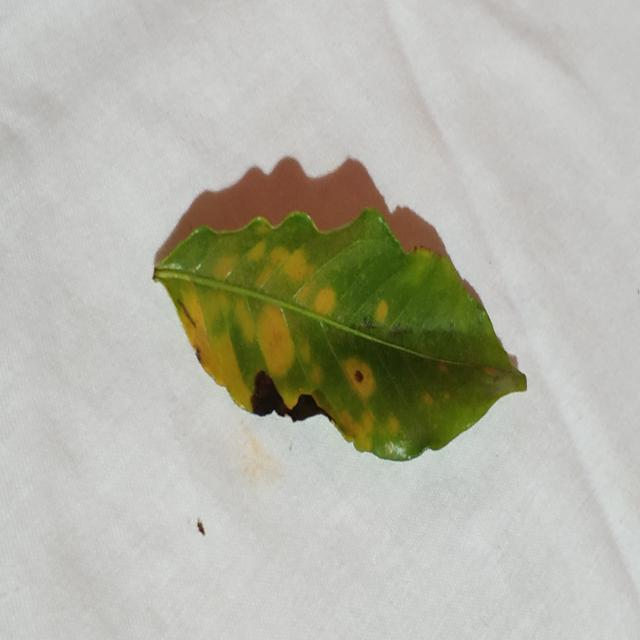Enfermedad-Roya: (152, 209, 528, 465)
